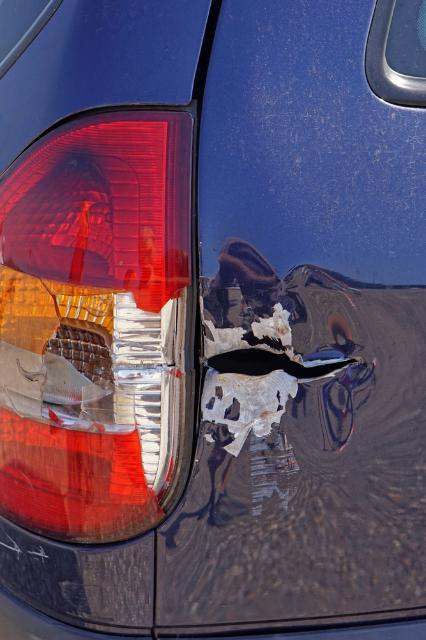crack: (206, 347, 360, 379)
dent: (209, 240, 375, 459)
lamp broken: (0, 108, 196, 548)
scratch: (246, 423, 305, 527)
